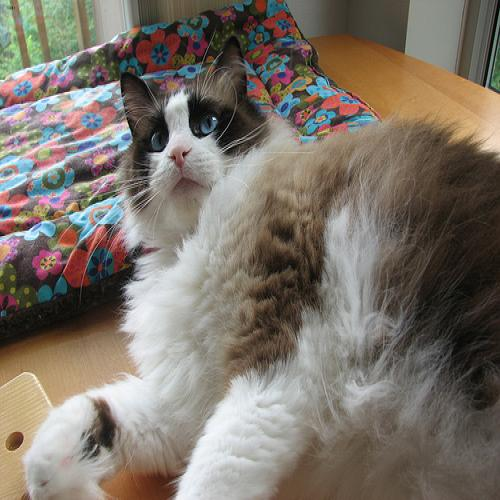ragdoll: (107, 28, 269, 243)
